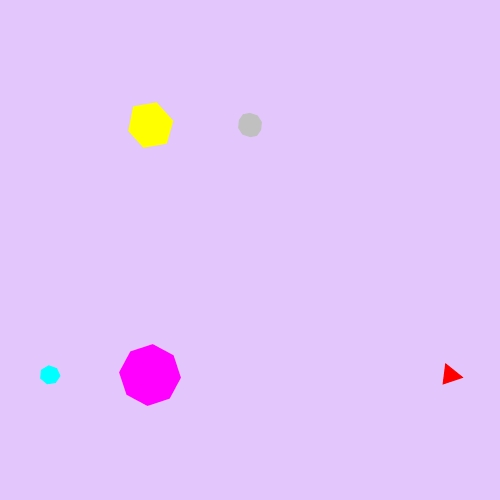decagon: (233, 109, 267, 141)
heptagon: (36, 361, 65, 389)
hexagon: (122, 102, 179, 149)
octagon: (116, 341, 184, 409)
triangle: (436, 361, 464, 390)
